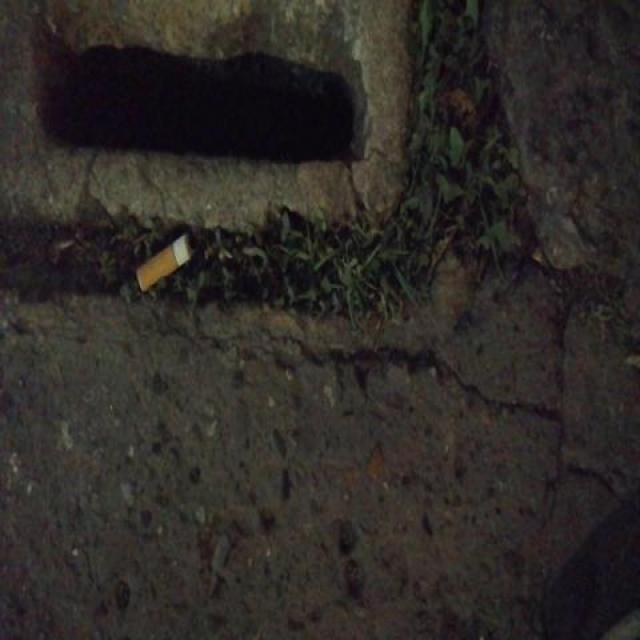non-organic waste: (132, 229, 200, 298)
